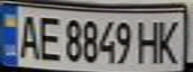4: (97, 17, 118, 65)
8: (60, 16, 84, 63), (78, 17, 100, 64)
9: (115, 17, 136, 65)
A: (12, 11, 42, 60)
E: (33, 11, 63, 62)
H: (136, 17, 163, 65)
K: (154, 16, 184, 65)
